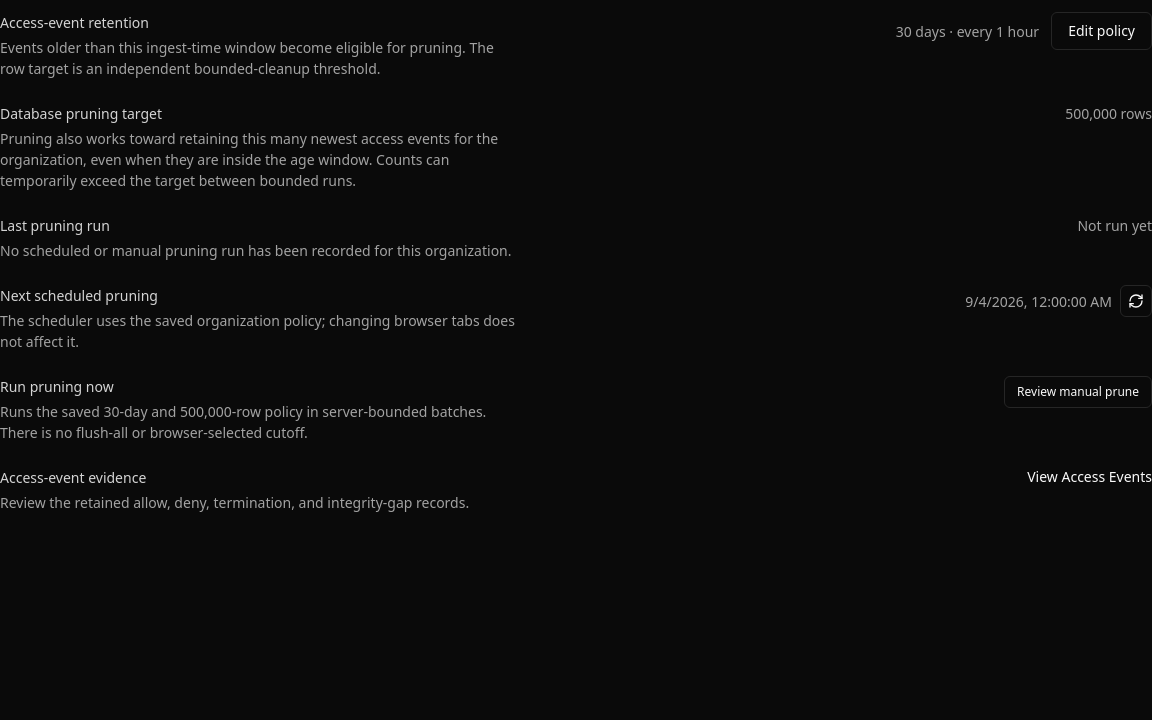
Scenario: access-event retention settings › loads authoritative policy data and saves only editable fields with its revision
Expected: the text "30 days · every 1 hour" is shown, x1=896 y1=20 x2=1039 y2=42
Expected: the text "500,000 rows" is shown, x1=1065 y1=103 x2=1151 y2=124
Click the button "Edit policy" at (1102, 31), box x1=1051 y1=12 x2=1151 y2=50
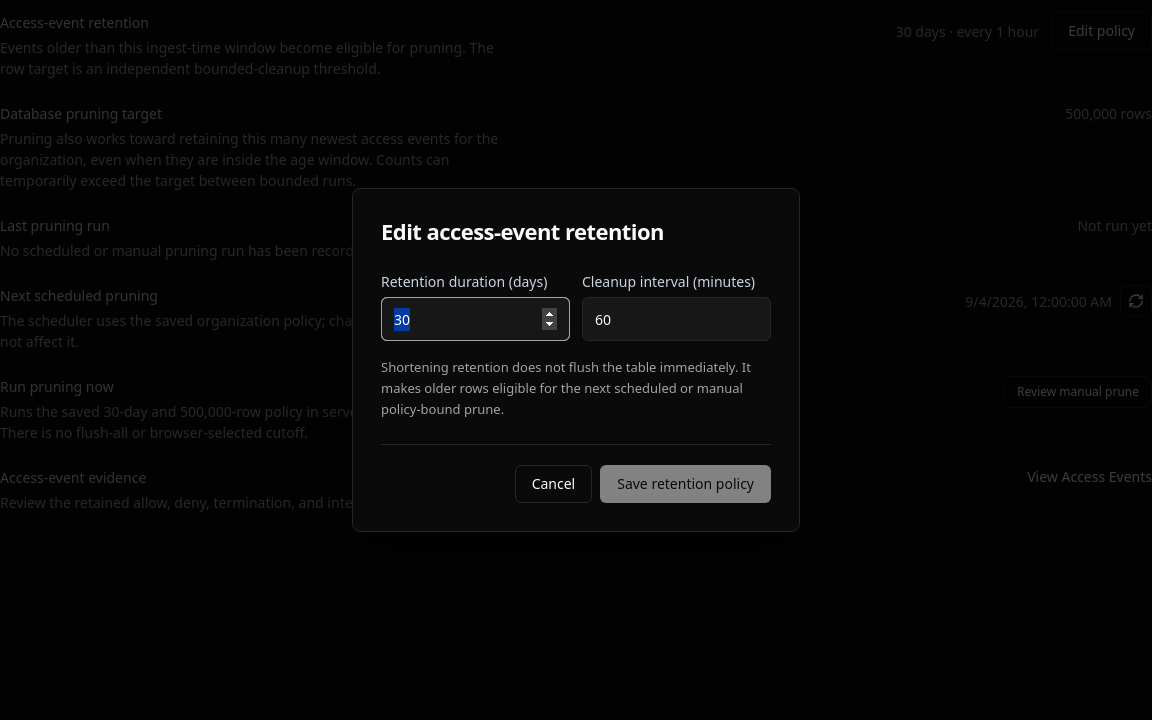
Replace the text in the number field labelled "Retention duration (days)" with "45" at (476, 319), box x1=381 y1=297 x2=570 y2=341
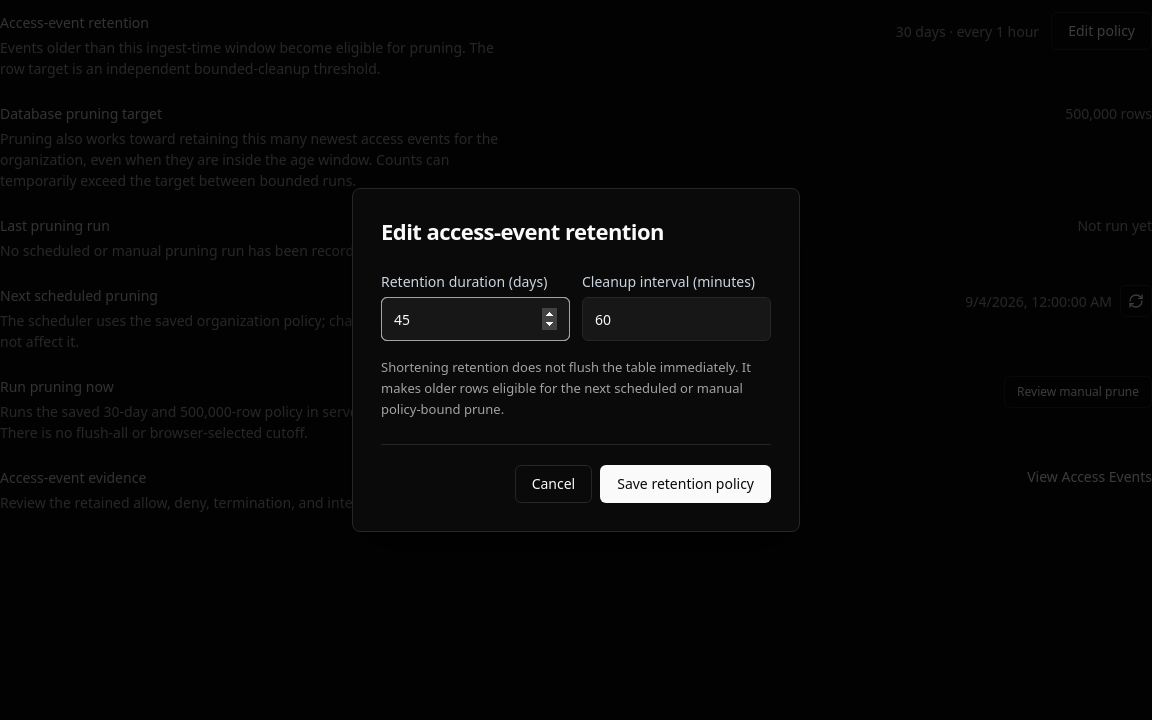
Replace the text in the number field labelled "Cleanup interval (minutes)" with "120" at (676, 319), box x1=582 y1=297 x2=771 y2=341
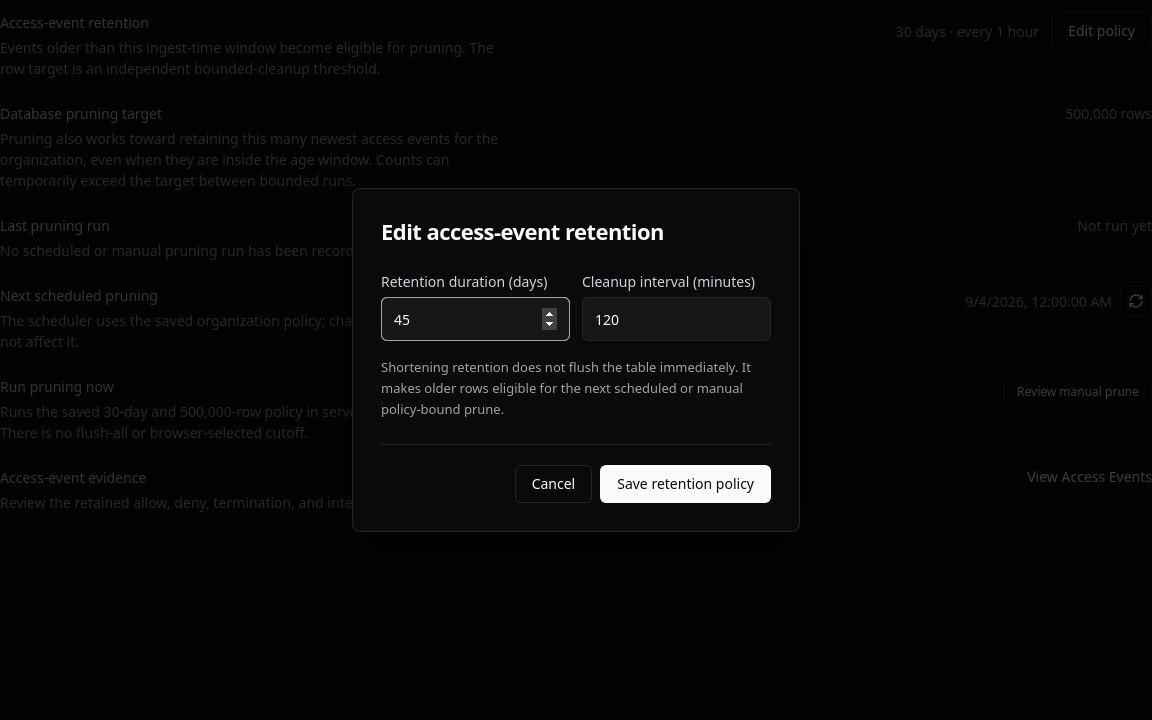
Click the button "Save retention policy" at (686, 484), box x1=600 y1=464 x2=771 y2=502
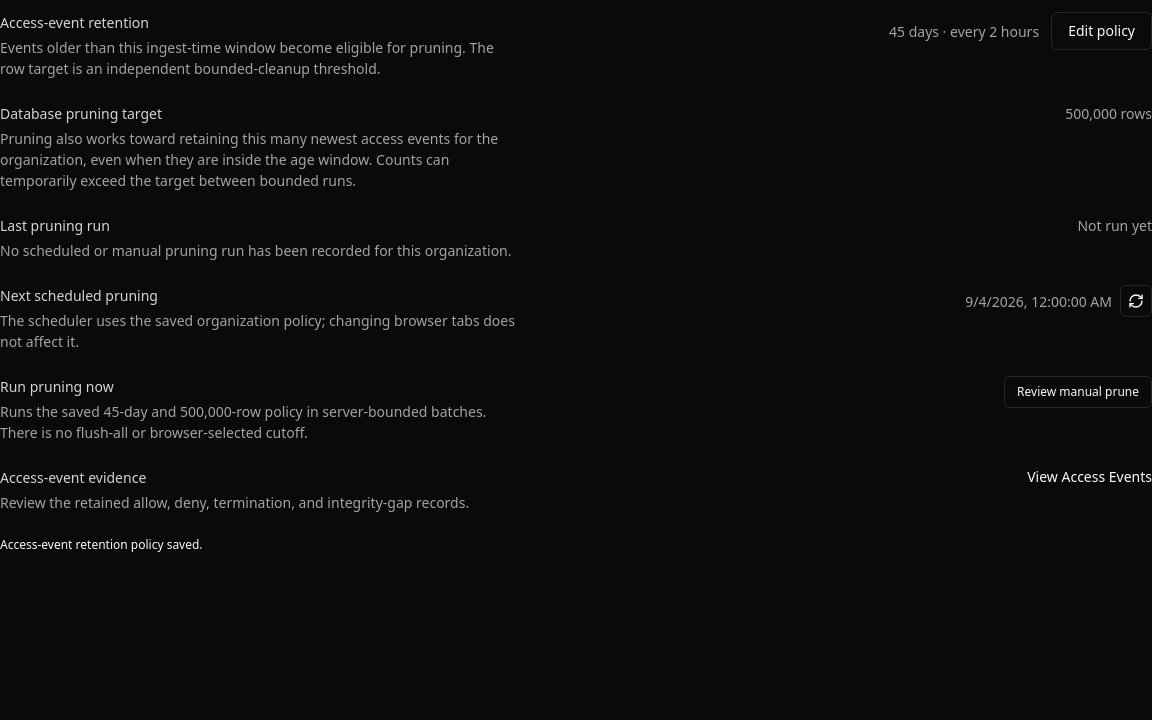
Expected: the text "45 days · every 2 hours" is shown, x1=889 y1=20 x2=1039 y2=42
